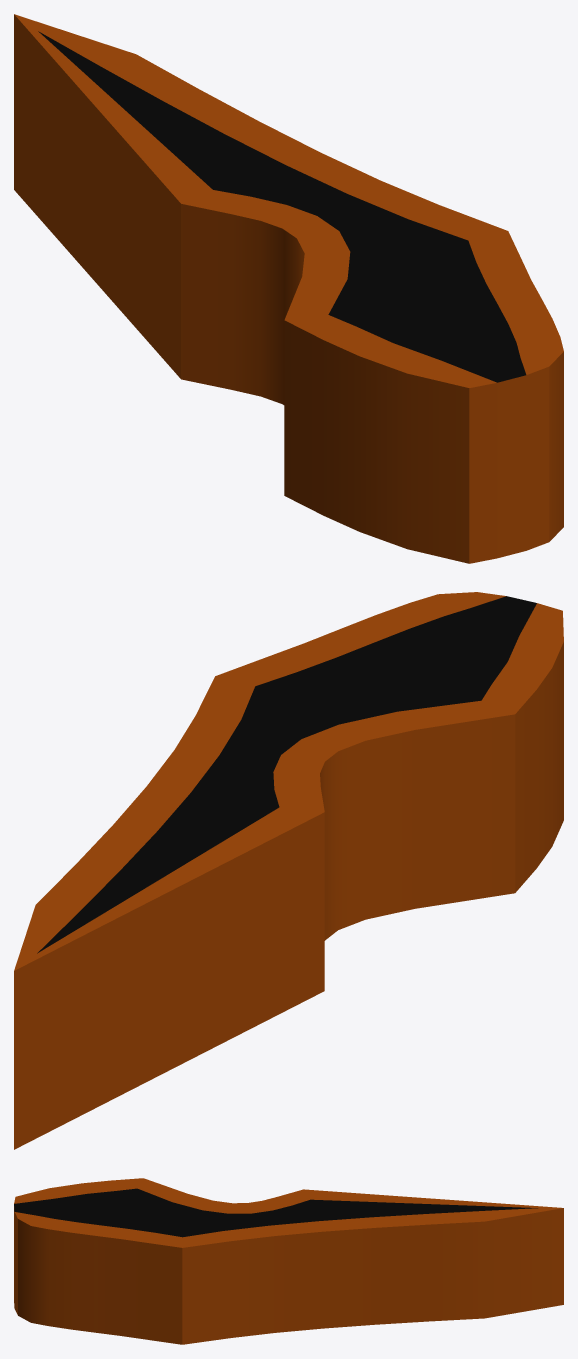
Rendered from Pointer.FBX.
3 renders of one model, top to bottom at view 1: azimuth 30°, elevation 25°; view 2: azimuth 150°, elevation 25°; view 3: azimuth 270°, elevation 25°, orthographic. The views are drawn at different scales.
Parts seen in each view (by area): view 1: Shape1; view 2: Shape1; view 3: Shape1.
Boxes of the visible parts, x1,y1,x2,y2 form: Shape1: (14,14,563,563); Shape1: (14,592,563,1149); Shape1: (14,1178,563,1344).
Size of the model in its own units: 2.65 by 1.72 by 8.84.
